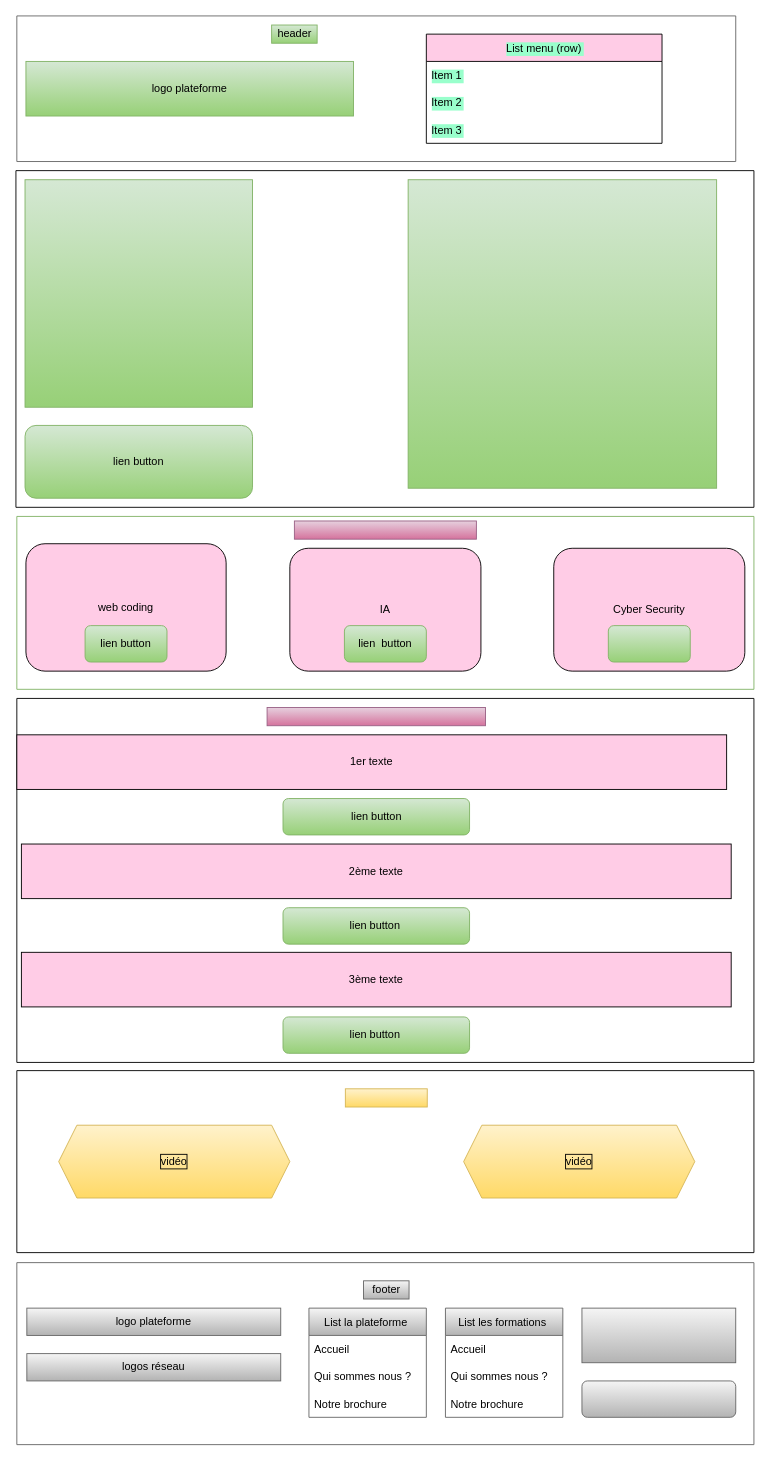
Some shapes in this 770 by 1461 pixel diagram are drawn without their labels. Each missing label, with the centre of its shape:
"Accélerer votre transformation numérique" belongs at (375,716).
"Ils témoignent" belongs at (385,1097).
"image" belongs at (562,333).
"lien" belongs at (648,643).
"lien vers formulaire de contact" belongs at (658,1398).
"partie texte" belongs at (138,293).
"Se former au métier du numérique" belongs at (384,529).
"texte informations" belongs at (658,1335).
